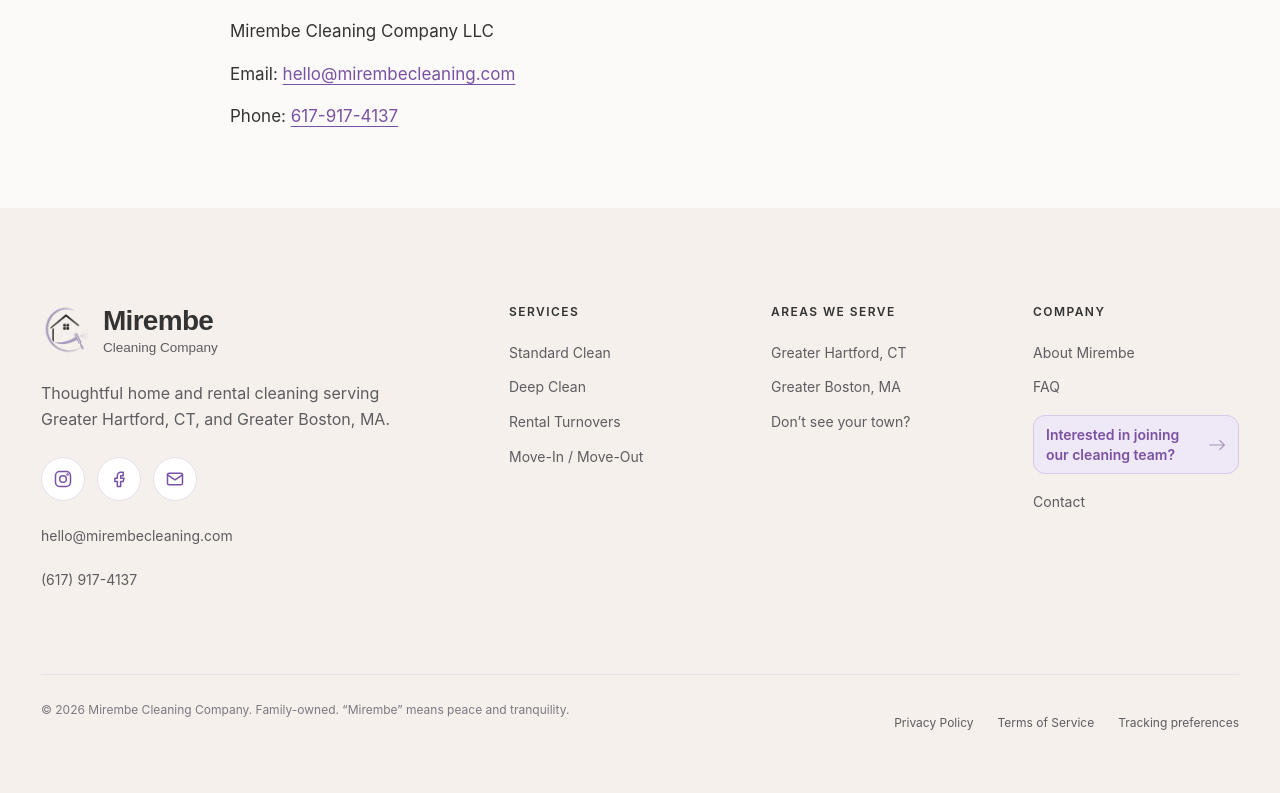
it: keeps footer preferences available under Global Privacy Control without offering an override
(page scrolled)
Click the button "Tracking preferences" at (1179, 723), box [1118,701,1239,745]
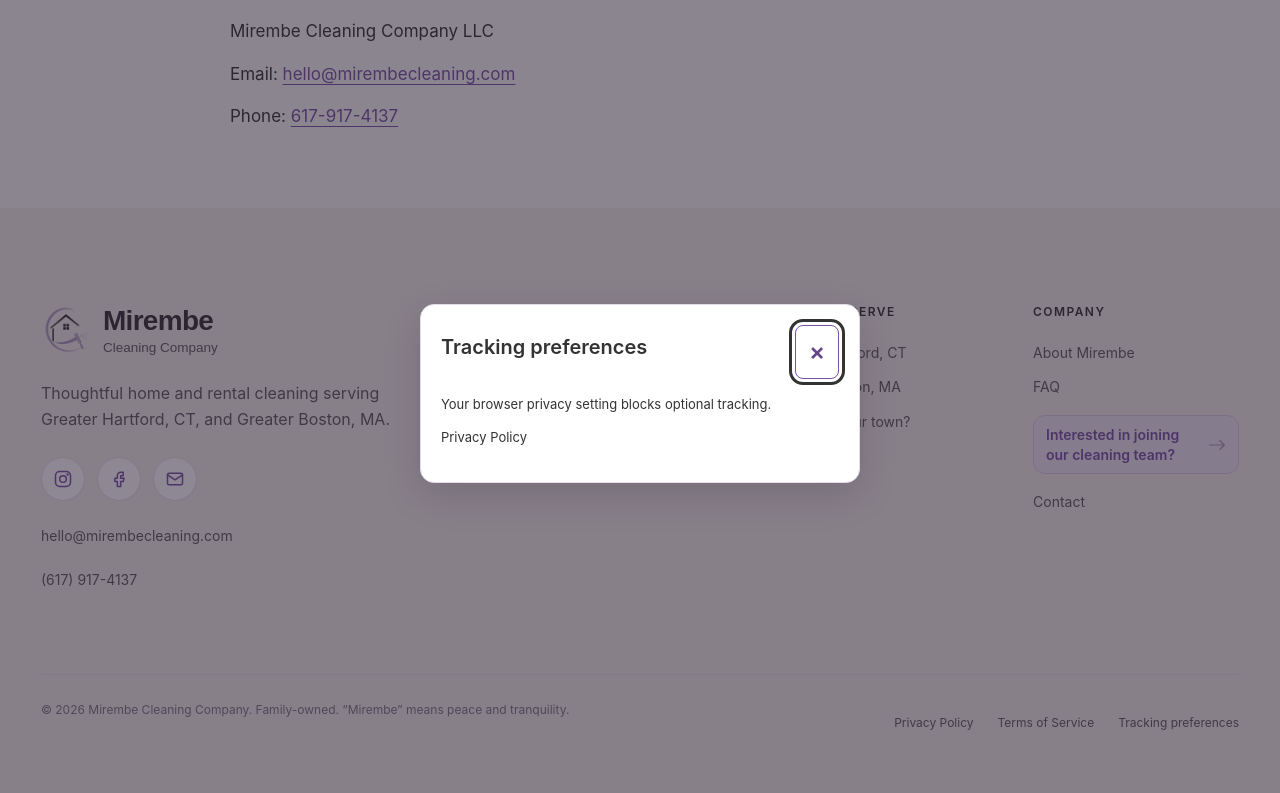
Check: the dialog "Tracking preferences" shows "Your browser privacy setting blocks optional tracking.", box [441,396,771,412]
Click the button named "Close tracking preferences" at (817, 352), box [795,324,839,378]
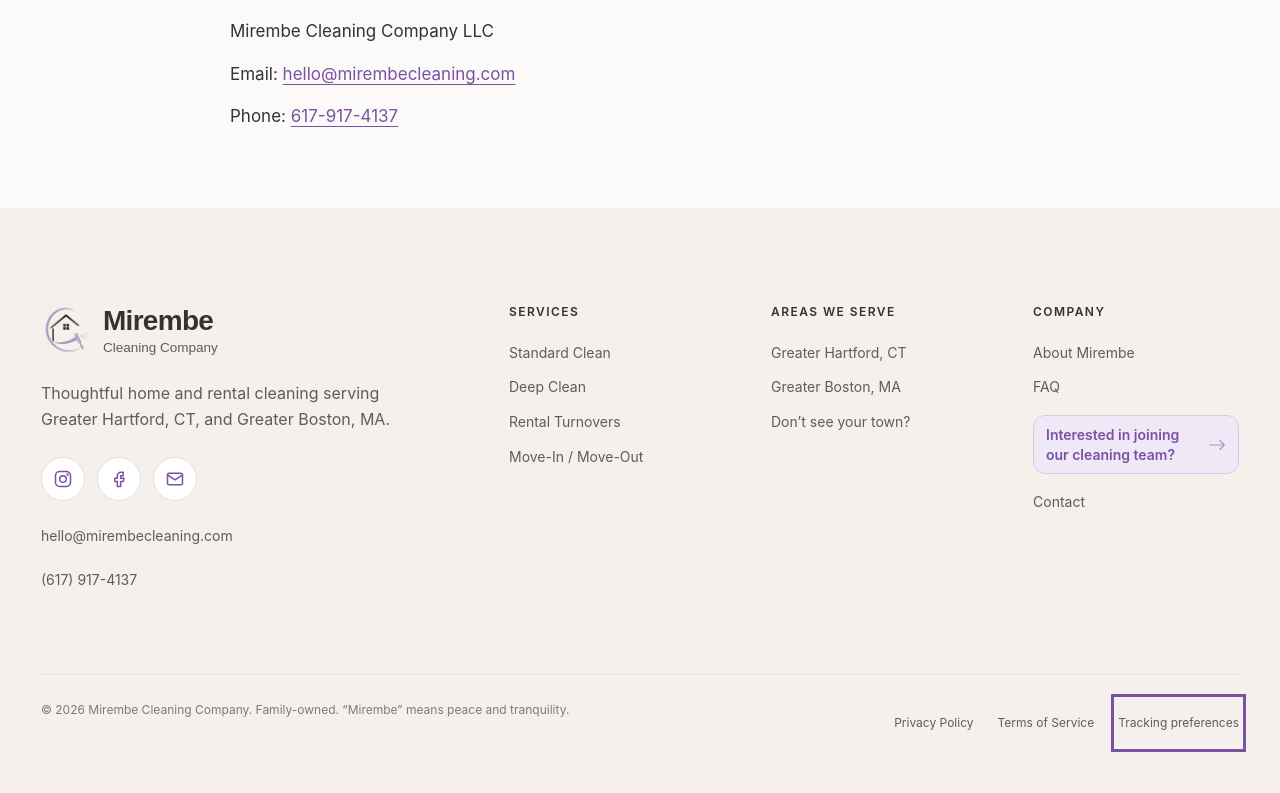
Check: the dialog is gone
